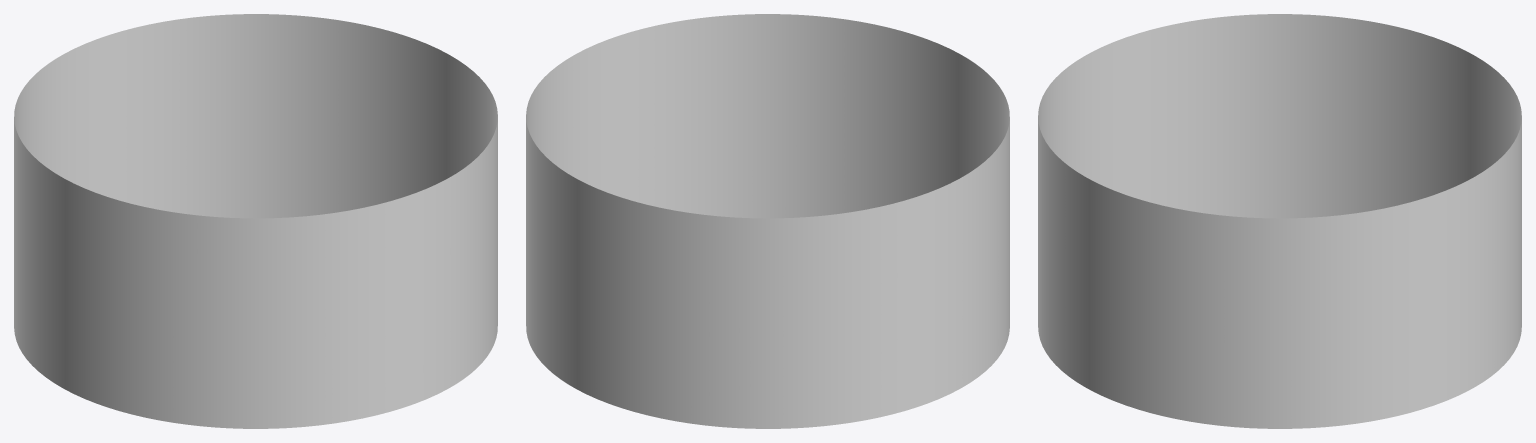
3 renders of one model, left to right at view 1: azimuth 30°, elevation 25°; view 2: azimuth 150°, elevation 25°; view 3: azimuth 270°, elevation 25°, orthographic.
Visible parts, largest first — view 1: Circle001; view 2: Circle001; view 3: Circle001.
Part boxes in pixels (<box>): Circle001: <box>14,14,497,428</box>; Circle001: <box>526,14,1009,428</box>; Circle001: <box>1038,14,1521,428</box>.
Size of the model in its own units: 2103 by 1010 by 2103.
Materials: 1 (1 with a texture image).
